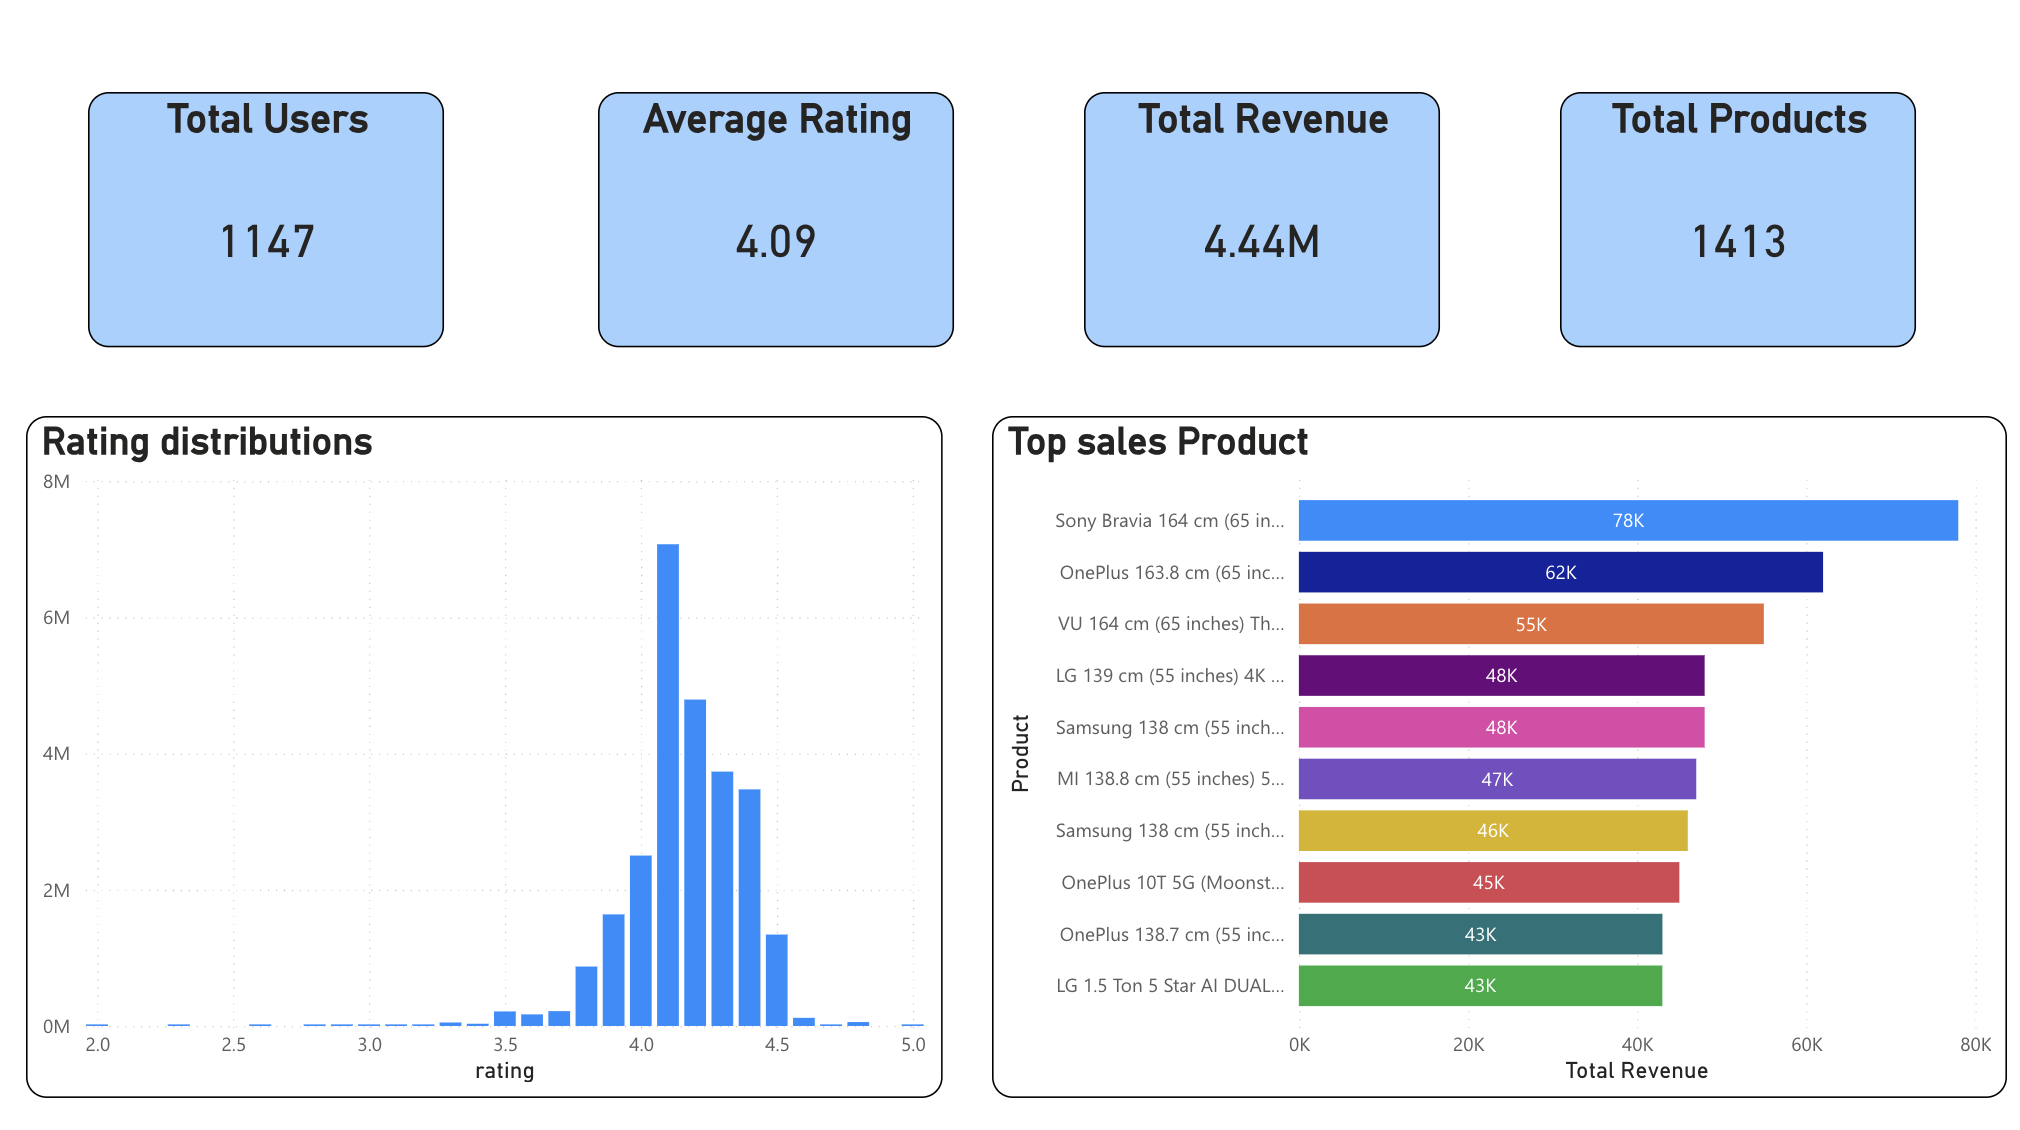

The page's visual inventory and layout, read from the dashboard file:
{"tool":"powerbi","page":{"name":"Summary","canvas":[1280,720],"ordinal":0},"visuals":[{"type":"card","title":"Total Revenue","fields":{"Values":["fact_amazon_sales.Total Revenue"]},"box":[685.8,63.6,224.7,161.1],"z":0},{"type":"card","title":"Total Products","fields":{"Values":["fact_amazon_sales.Total Products Sold"]},"box":[985.9,63.6,224.7,161.1],"z":1000},{"type":"card","title":"Average Rating","fields":{"Values":["fact_amazon_sales.Avg Rating"]},"box":[379.9,63.6,224.7,161.1],"z":2000},{"type":"card","title":"Total Users","fields":{"Values":["fact_amazon_sales.Total Users"]},"box":[57.6,63.6,224.7,161.1],"z":3000},{"type":"barChart","title":"Top sales Product","fields":{"Y":["fact_amazon_sales.Total Revenue"],"Category":["dim_products.product_name"],"Series":["dim_products.product_name"]},"box":[628.2,267.5,640,430.1],"z":5000},{"type":"lineStackedColumnComboChart","title":"Rating distributions","fields":{"Category":["fact_amazon_sales.rating"],"Y":["Sum(fact_amazon_sales.rating_count)"]},"box":[19.2,267.5,577.9,430.1],"z":5001}]}

Visuals, with their boxes in screenshot pixels (x1, y1, x2, y2), scaled from the page's 1280x720 canvas onto the 2020x1130 screenshot:
"Total Revenue" card: {"left": 1082, "top": 100, "right": 1437, "bottom": 353}
"Total Products" card: {"left": 1556, "top": 100, "right": 1910, "bottom": 353}
"Average Rating" card: {"left": 600, "top": 100, "right": 954, "bottom": 353}
"Total Users" card: {"left": 91, "top": 100, "right": 446, "bottom": 353}
"Top sales Product" barChart: {"left": 991, "top": 420, "right": 2001, "bottom": 1095}
"Rating distributions" lineStackedColumnComboChart: {"left": 30, "top": 420, "right": 942, "bottom": 1095}
